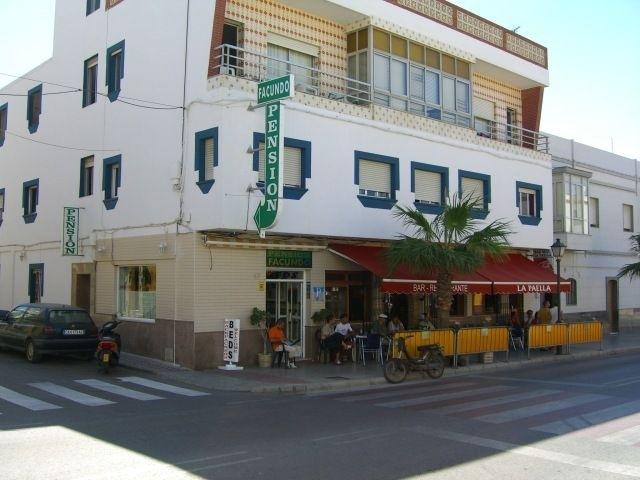non-vehicle: (382, 334, 445, 383), (97, 320, 123, 371)
